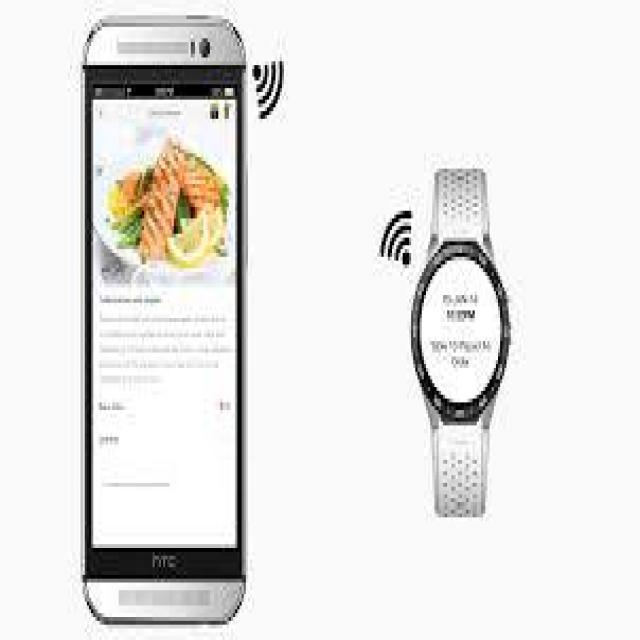smart phone: (35, 33, 274, 622)
watch: (347, 152, 547, 583)
